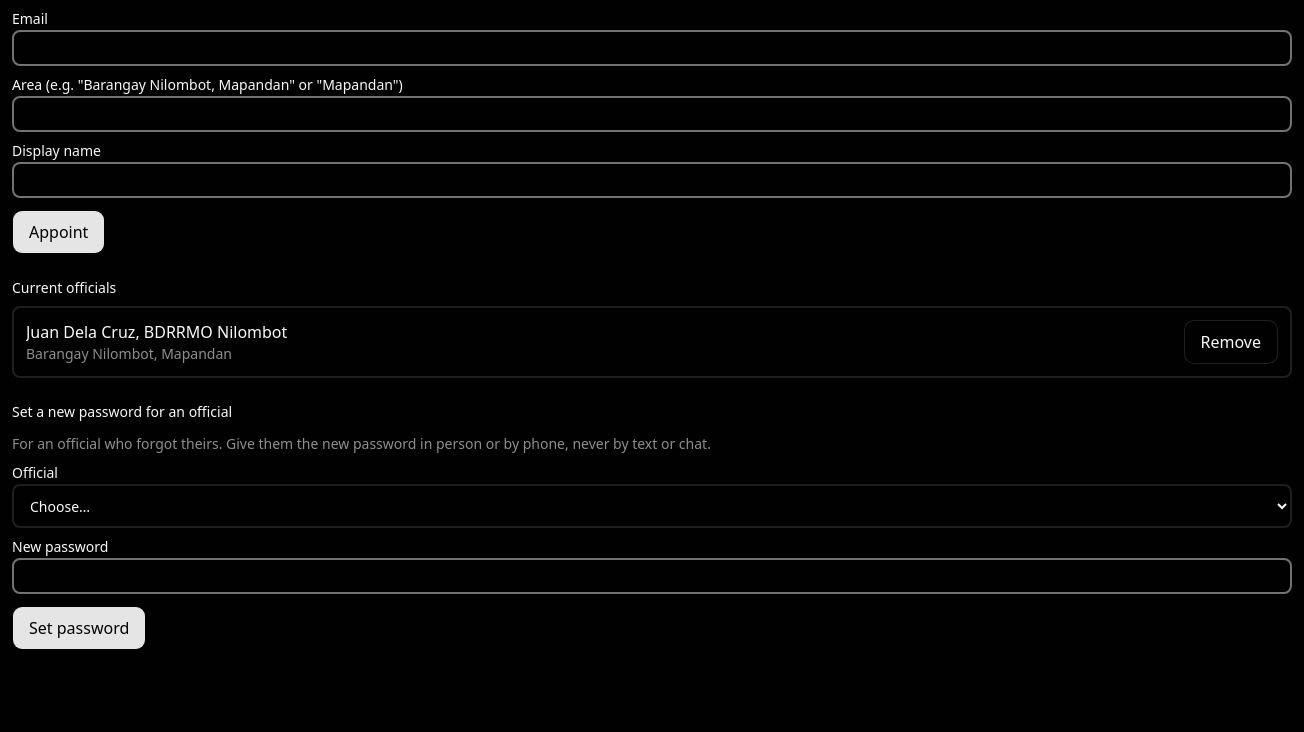
Test: OfficialsPanel › shows the database's own error text on a failed appointment, without refreshing
The width and height of the screenshot is (1304, 732).
Step 1. Type "maria@example.com" into the field labelled "Email" → (652, 48), box [12,30,1292,66]
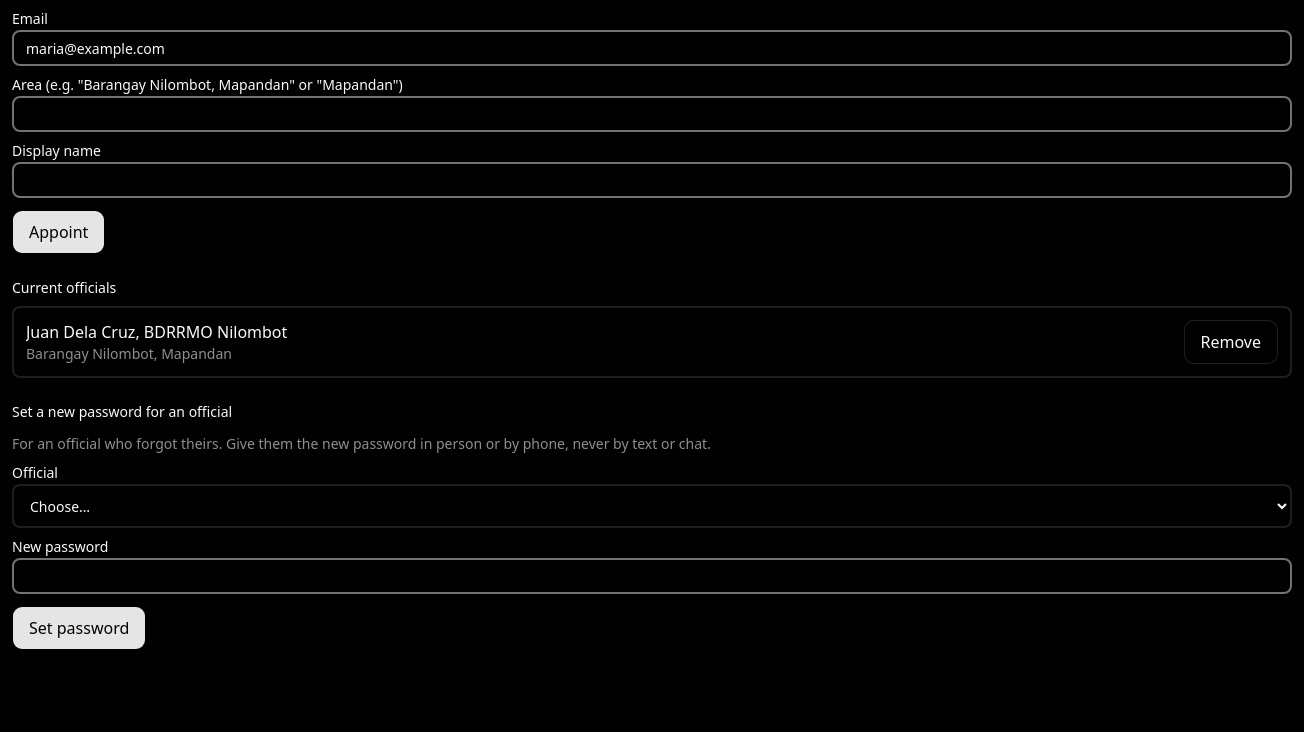
Step 2. Type "Mapandan" into the field labelled "Area (e.g. \"Barangay Nilombot, Mapandan\" or \"Mapandan\")" → (652, 114), box [12,96,1292,132]
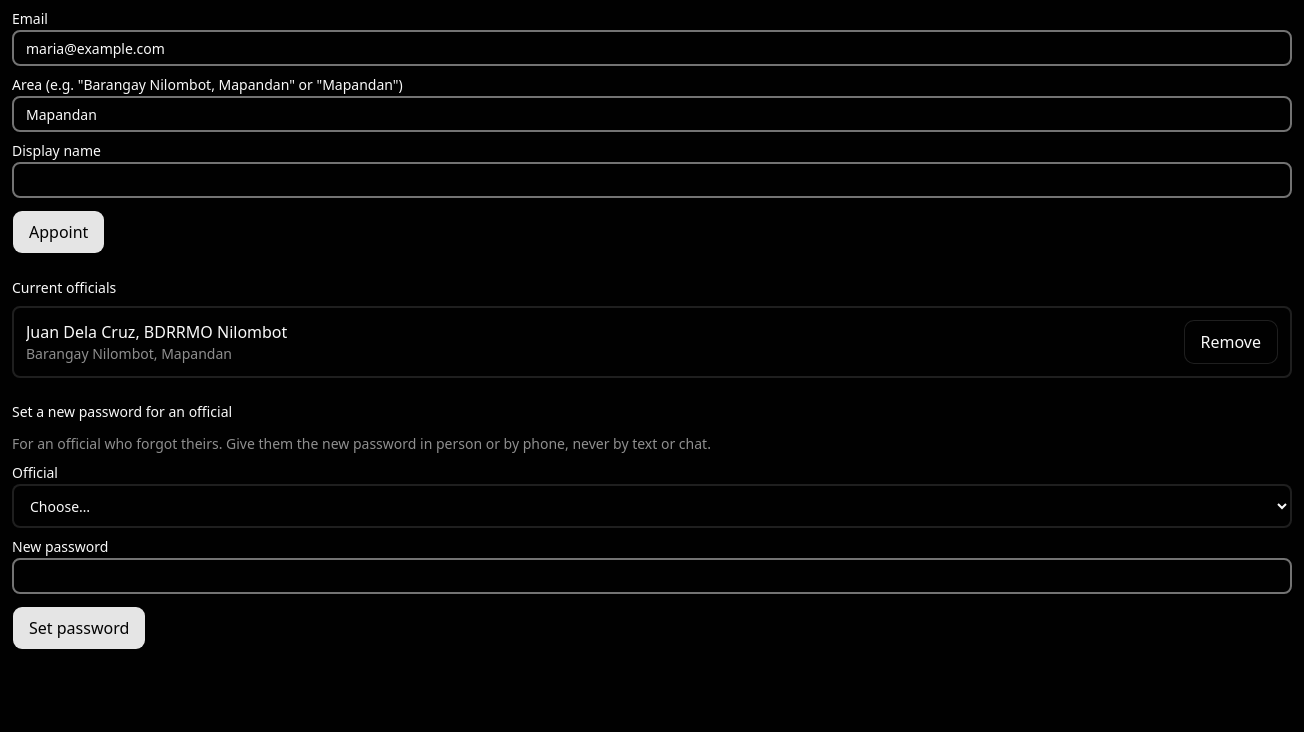
Step 3. Type "Maria" into the field labelled "Display name" → (652, 180), box [12,162,1292,198]
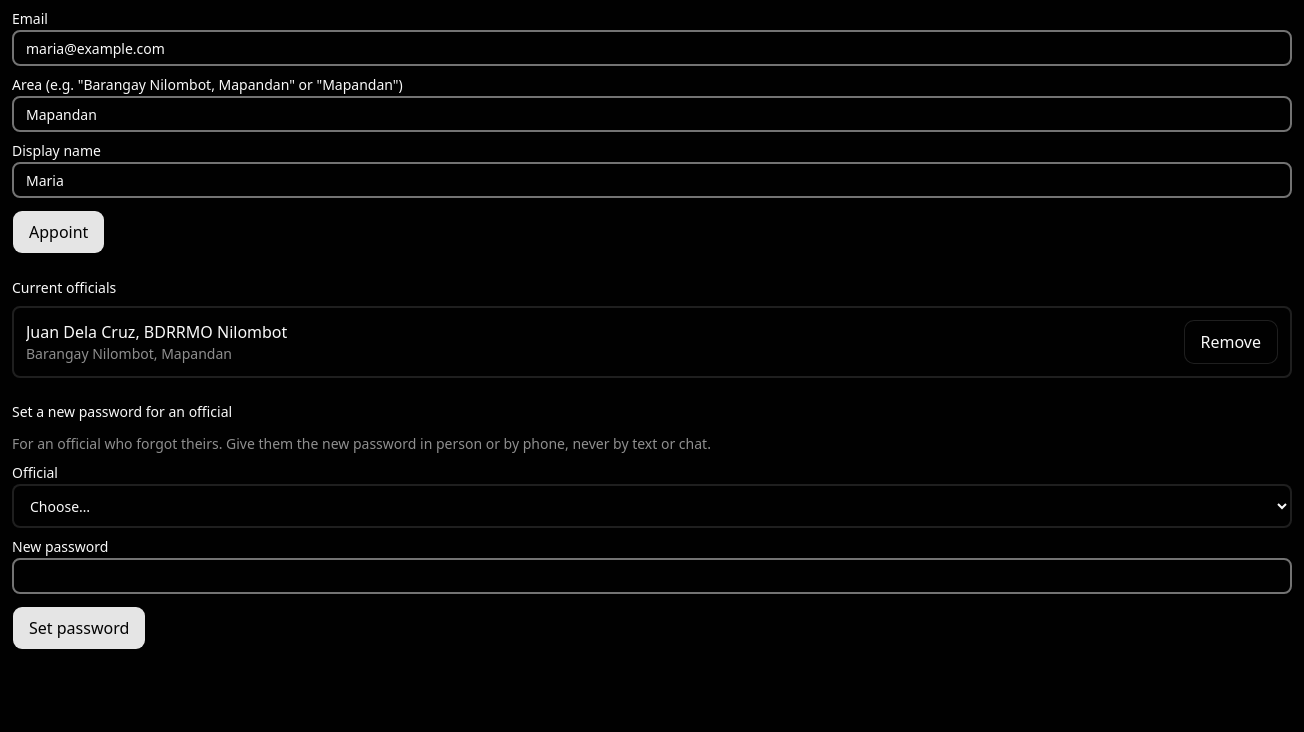
Step 4. Click the button "Appoint" → (59, 232), box [12,210,105,254]
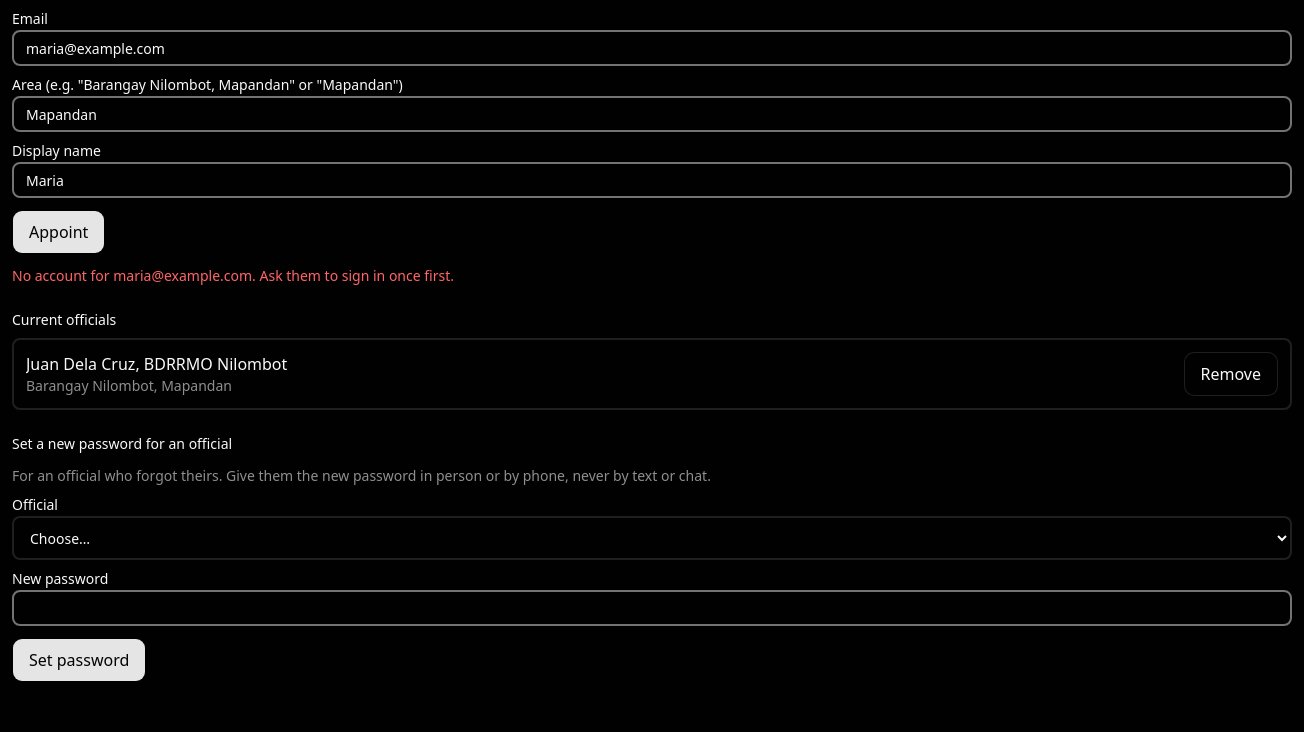
Expected: the text "No account for maria@example.com. Ask them to sign in once first." is shown, [12,266,454,285]
